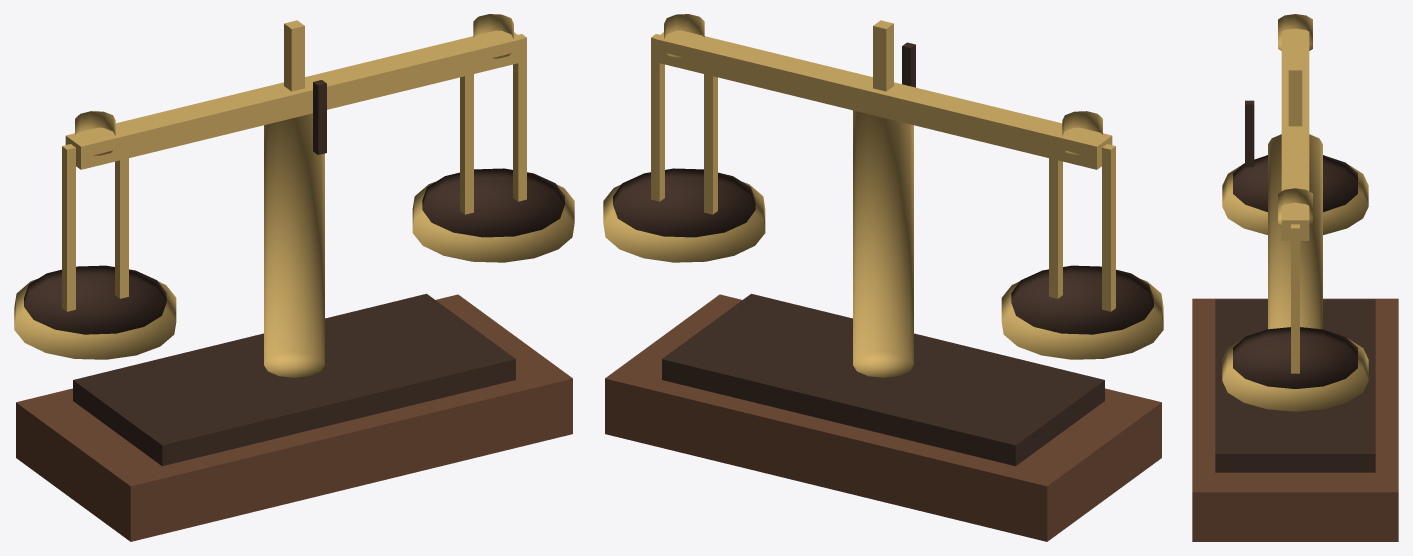
Rendered from balance_scale.glb.
3 renders of one model, left to right at view 1: azimuth 30°, elevation 25°; view 2: azimuth 150°, elevation 25°; view 3: azimuth 270°, elevation 25°, orthographic. The views are drawn at different scales.
Visible parts, largest first — view 1: balance_scale; view 2: balance_scale; view 3: balance_scale.
Part boxes in pixels (bbox=[...]): balance_scale: bbox=[14, 14, 574, 541]; balance_scale: bbox=[603, 14, 1163, 541]; balance_scale: bbox=[1192, 14, 1398, 541].
Bounding box in the file's own units: 0.244 × 0.182 × 0.09.
